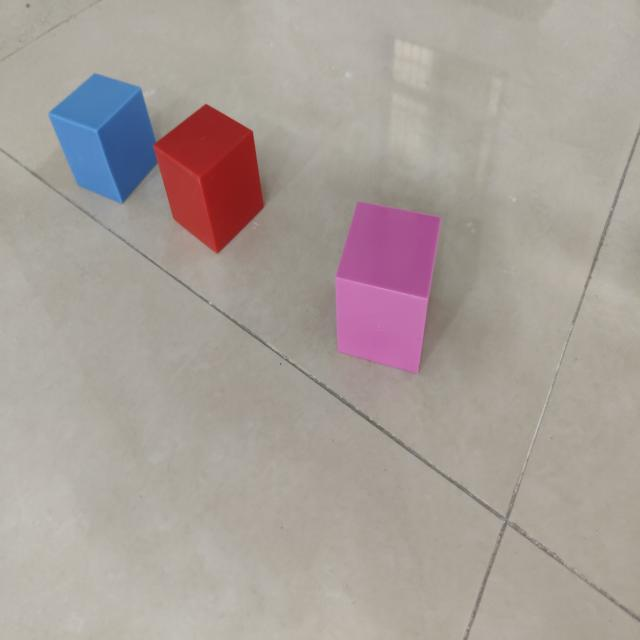blue: (50, 75, 157, 206)
pink: (334, 203, 443, 376)
red: (153, 107, 266, 256)
